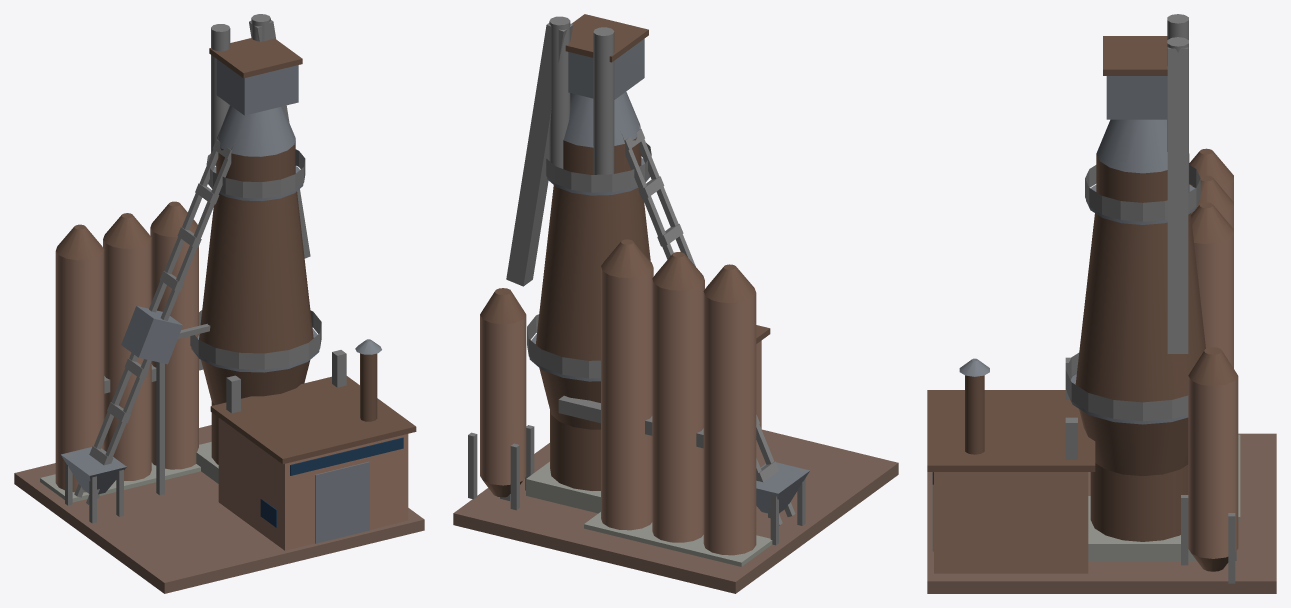
The model's file is mashup-main-mid-prebuilt.fbx.
The picture shows the model from 3 angles, left to right: view 1: azimuth 30°, elevation 25°; view 2: azimuth 150°, elevation 25°; view 3: azimuth 270°, elevation 25°; orthographic projection. The views are drawn at different scales.
Visible parts, largest first — view 1: a1023.Main; view 2: a1023.Main; view 3: a1023.Main.
Part boxes in pixels (x1,y1,x2,y2): a1023.Main: (14,14,424,593); a1023.Main: (453,14,898,593); a1023.Main: (927,14,1276,593).
Size of the model in its own units: 15.66 by 25.3 by 15.4.
